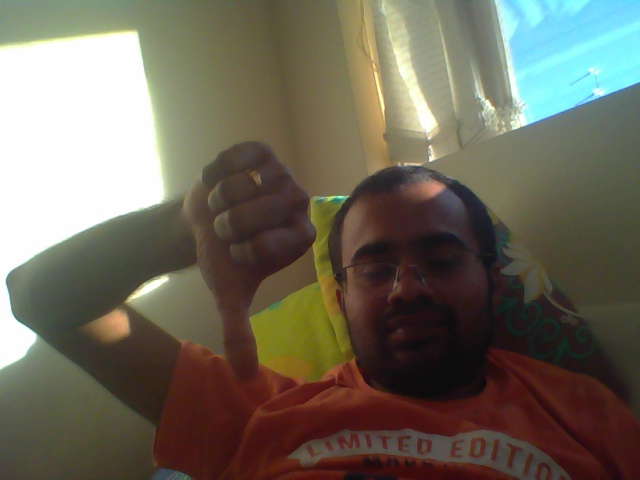ThumbsDown: (175, 134, 323, 386)
